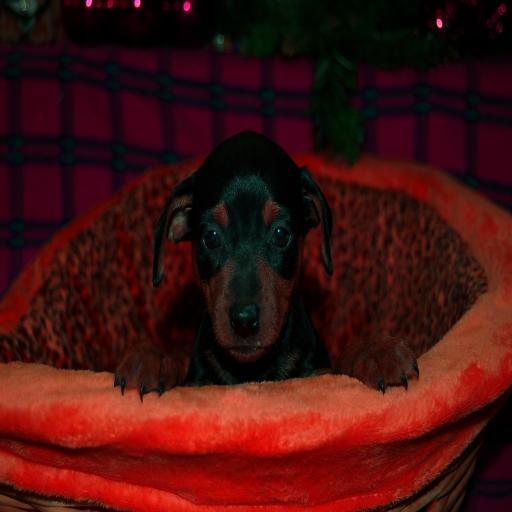dog_face: (150, 140, 324, 369)
